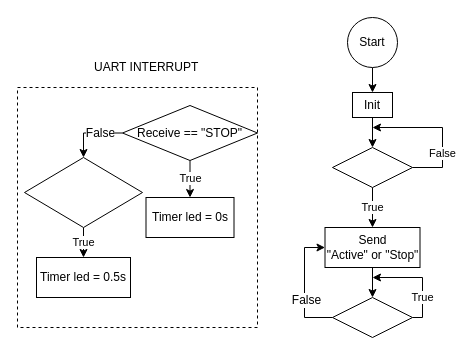
The diagram is 473 pixels wide and 355 high, and some of its shapes have lost their labels. Here are the shapes that lost their labels. From the top down, the centre of each, then its label:
[372,167]: Press S2
[83,192]: Receive == "Active"
[372,317]: Less than 2s
